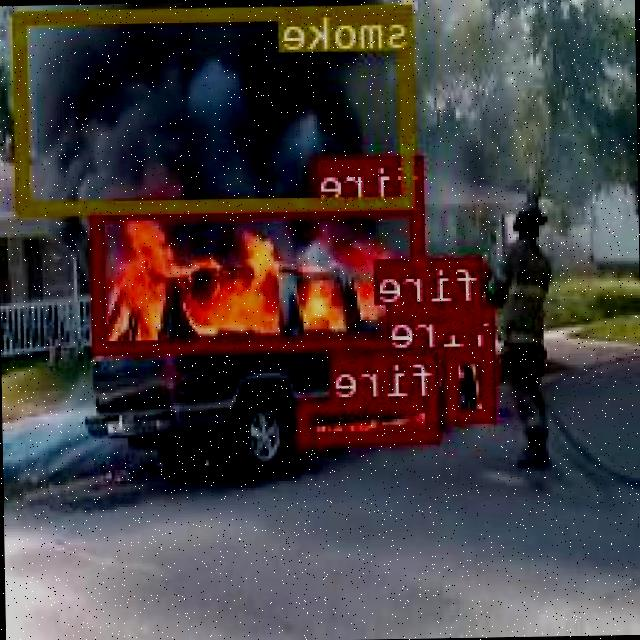fire: (93, 200, 427, 352), (300, 397, 442, 443), (449, 347, 496, 420), (444, 301, 486, 331)
smoke: (16, 2, 418, 212)
